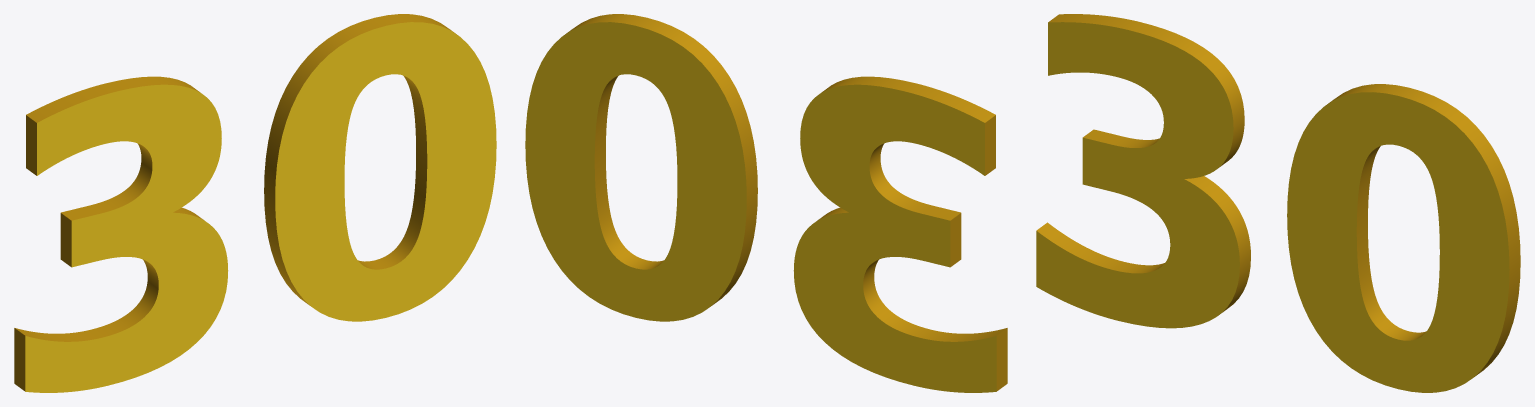
The model's file is Pts30.obj.
3 views of the same model, side by side, from view 1: azimuth 30°, elevation 25°; view 2: azimuth 150°, elevation 25°; view 3: azimuth 330°, elevation 25° (orthographic).
Parts seen in each view (by area): view 1: Pts30; view 2: Pts30; view 3: Pts30.
Boxes of the visible parts, box(x1,y1,x2,y2) form: Pts30: box(14, 14, 496, 392); Pts30: box(525, 14, 1007, 392); Pts30: box(1036, 14, 1520, 392).
Bounding box in the file's own units: 0.9809 × 0.581 × 0.04.
Materials: 1 (1 with a texture image).
